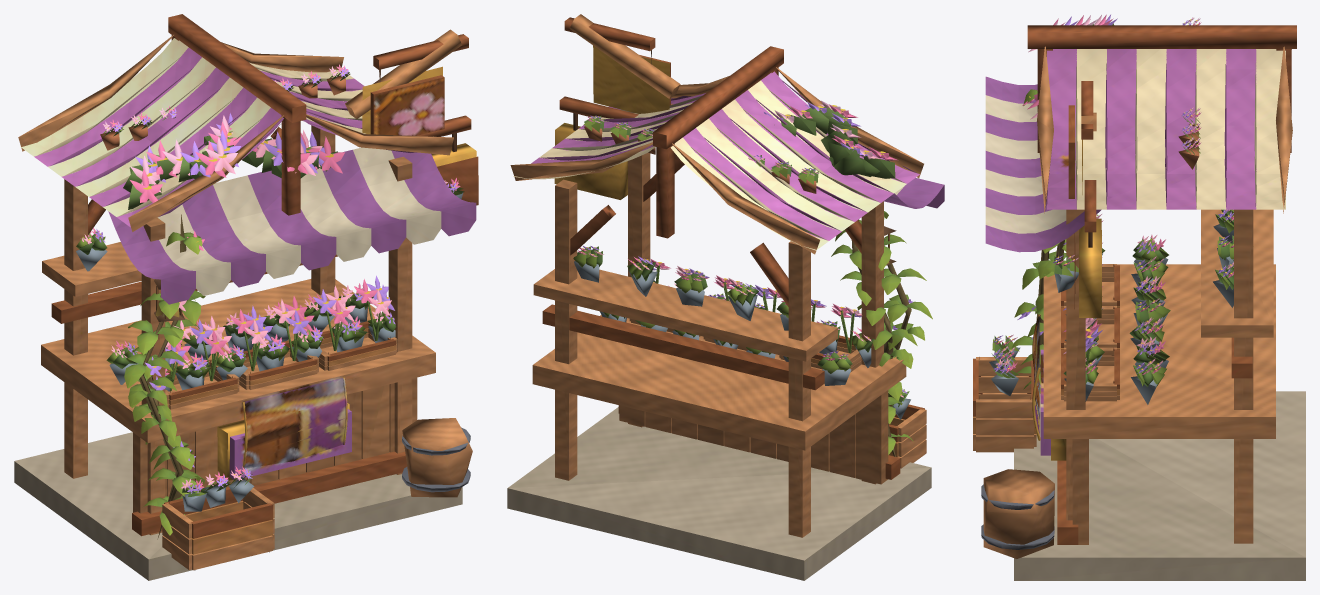
File: stall_flowers.glb
The picture shows the model from 3 angles, left to right: view 1: azimuth 30°, elevation 25°; view 2: azimuth 150°, elevation 25°; view 3: azimuth 270°, elevation 25°; orthographic projection. The views are drawn at different scales.
Visible parts, largest first — view 1: Body; view 2: Body; view 3: Body.
Part boxes in pixels (x1=…): Body: x1=14, y1=14, x2=478, y2=580; Body: x1=507, y1=14, x2=944, y2=580; Body: x1=973, y1=14, x2=1305, y2=580.
Size of the model in its own units: 2.87 by 3.27 by 2.06.
Materials: 1 (1 with a texture image).
